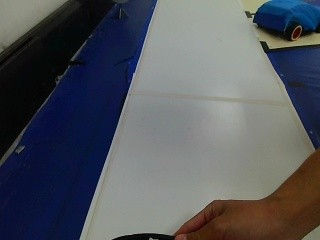car: (253, 0, 318, 44)
